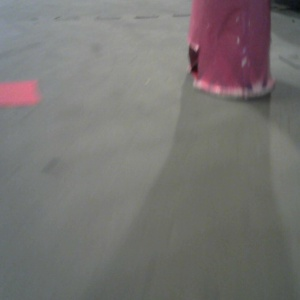Right: (234, 1, 300, 57)
